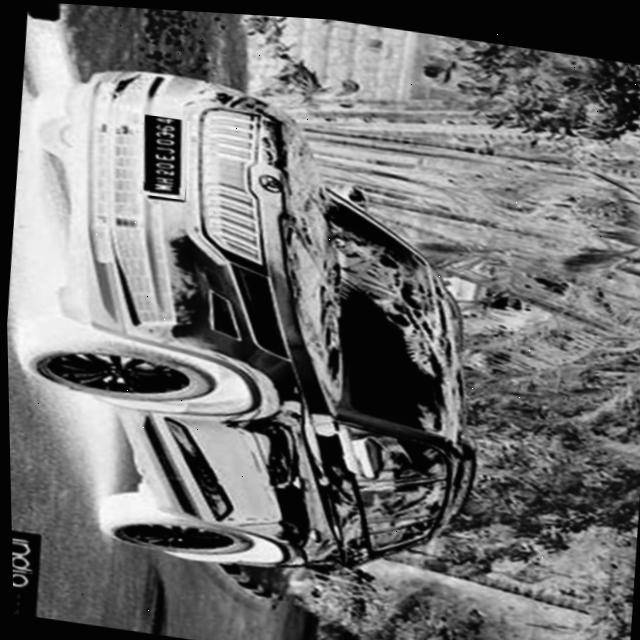Non_registered: (136, 112, 189, 198)
